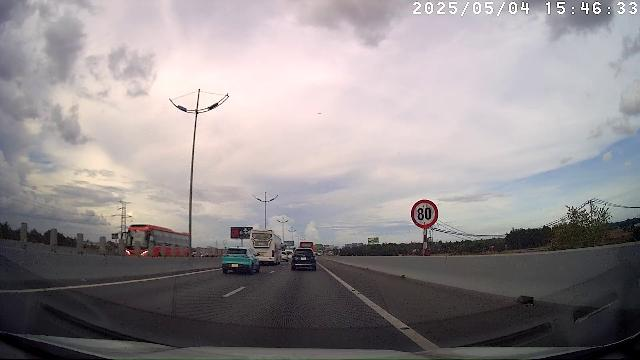127-toc-do-toi-da-80: (411, 199, 439, 229)
